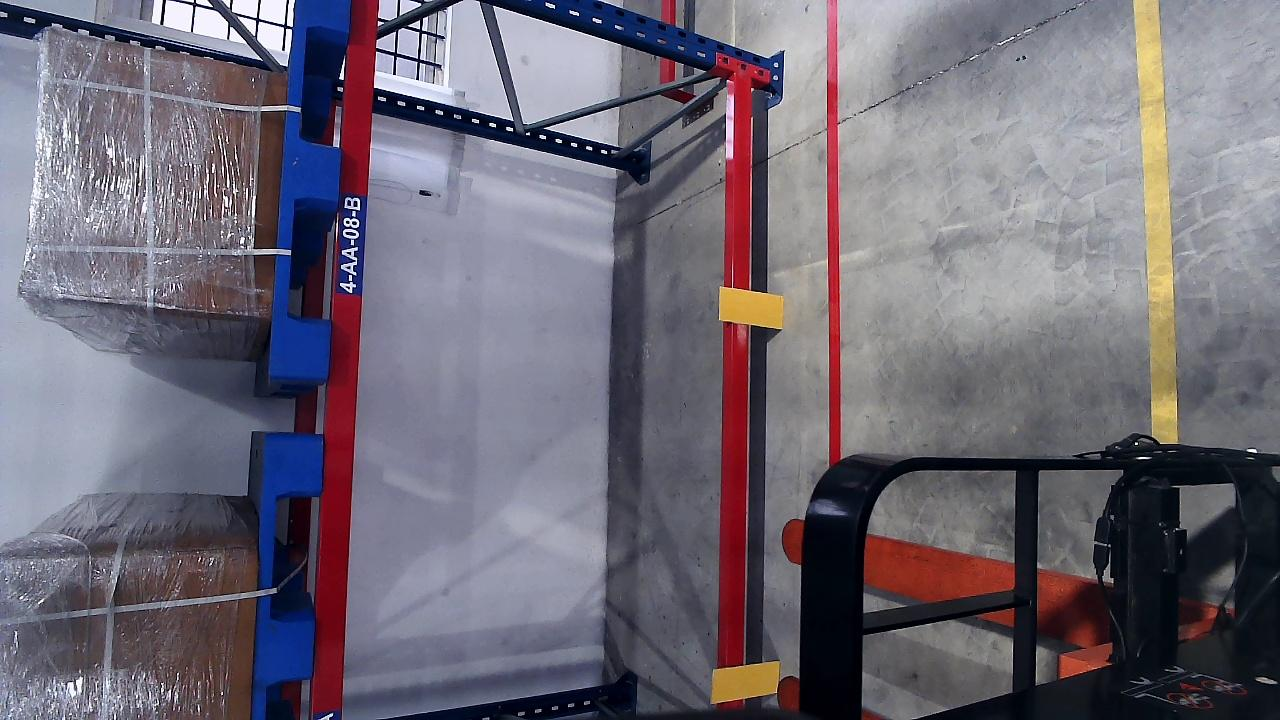h_rack: (720, 84, 759, 718), (343, 5, 376, 691)
orange_strip: (710, 660, 780, 702), (719, 285, 784, 328)
red_line: (822, 11, 844, 421)
small_pallet: (252, 434, 323, 720)
yellow_line: (1134, 0, 1180, 440)
